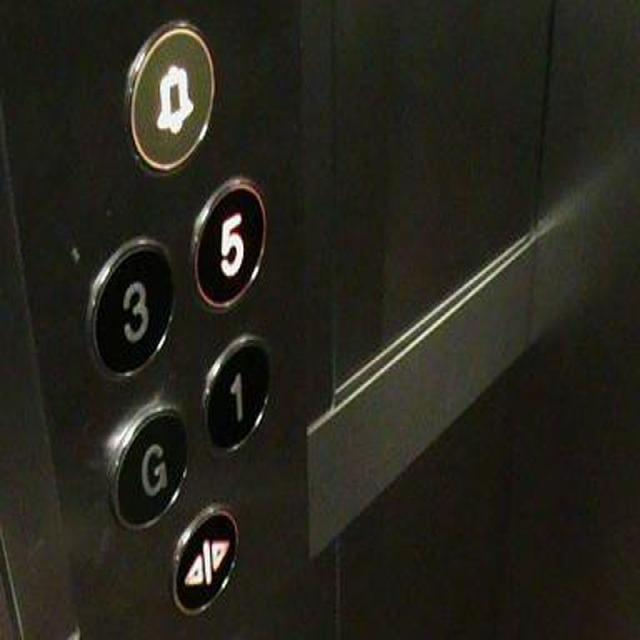1: (198, 329, 273, 463)
3: (85, 230, 177, 378)
5: (191, 173, 269, 308)
G: (105, 397, 190, 532)
alarm: (122, 16, 215, 176)
open: (168, 504, 240, 616)
